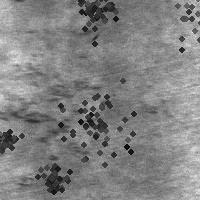rolled-in_scale: (43, 72, 145, 174), (1, 62, 103, 162), (148, 0, 200, 63), (61, 0, 129, 40), (27, 21, 102, 56), (32, 157, 72, 197), (0, 118, 21, 158)
